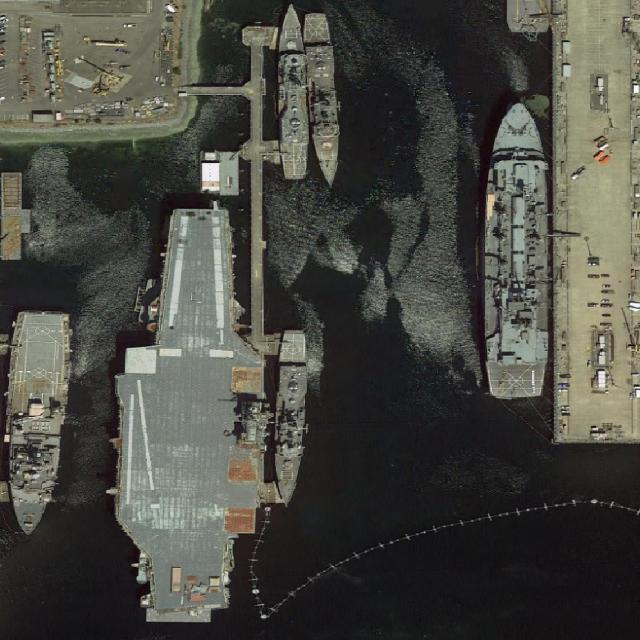Aircraft Carrier: (106, 206, 271, 615)
Auxiliary Ships: (484, 98, 551, 398)
Dock: (249, 49, 264, 337)
Frigate: (272, 328, 308, 509), (275, 2, 310, 181)
Other Warship: (6, 312, 72, 537)
